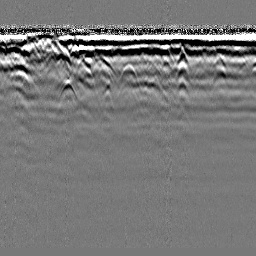cavity: (116, 63, 139, 85)
